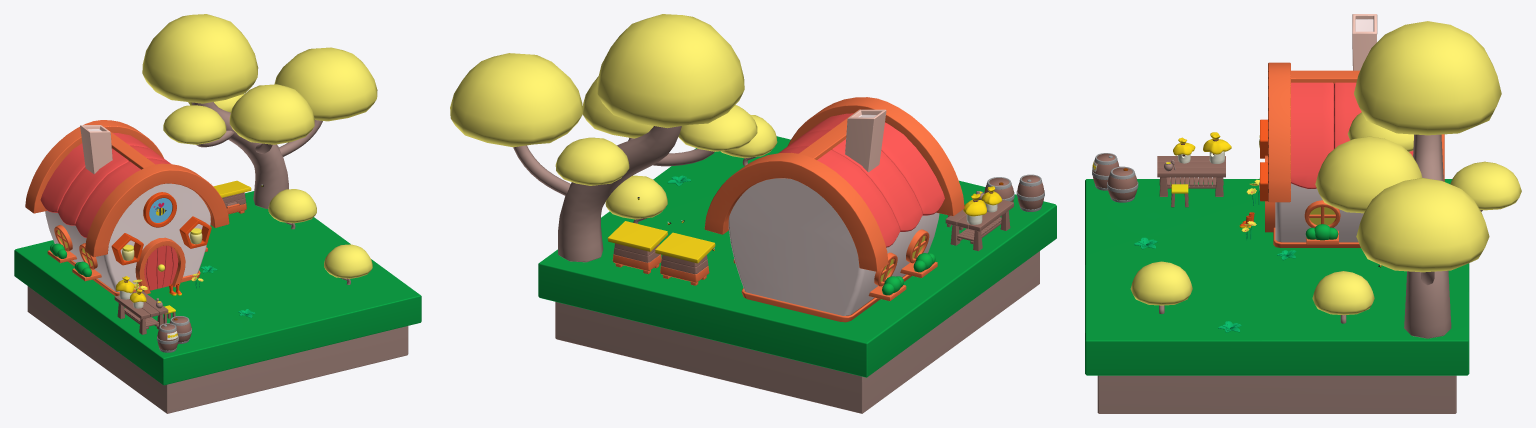
File: Farm_Island_10.glb
3 renders of one model, left to right at view 1: azimuth 30°, elevation 25°; view 2: azimuth 150°, elevation 25°; view 3: azimuth 270°, elevation 25°, orthographic. The views are drawn at different scales.
Parts seen in each view (by area): view 1: Farm_10_Base_1, Farm_10_Tree_1, Farm_10_House_1, Farm_10_Bush_1, Farm_10_Bush_2, Farm_10_Table_1, Farm_10_Picture_Bee_1, Farm_10_Bee_Hive_2, Farm_10_Barrel_Honey_1, Farm_10_Shelf_1, Farm_10_Shelf_2, Farm_10_Barrel_1; view 2: Farm_10_Base_1, Farm_10_House_1, Farm_10_Tree_1, Farm_10_Bee_Hive_1, Farm_10_Bee_Hive_2, Farm_10_Bush_1, Farm_10_Table_1, Farm_10_Bush_2, Farm_10_Barrel_Honey_1; view 3: Farm_10_Base_1, Farm_10_Tree_1, Farm_10_House_1, Farm_10_Bush_1, Farm_10_Bush_2, Farm_10_Table_1, Farm_10_Barrel_1, Farm_10_Barrel_Honey_1, Farm_10_Beehouse_1.
Part boxes in pixels (box(x1,y1,x2,y2)): Farm_10_Base_1: box(14, 191, 421, 413); Farm_10_Tree_1: box(142, 14, 377, 208); Farm_10_House_1: box(25, 120, 229, 295); Farm_10_Bush_1: box(268, 189, 316, 229); Farm_10_Bush_2: box(324, 244, 372, 284); Farm_10_Table_1: box(114, 291, 168, 334); Farm_10_Picture_Bee_1: box(143, 192, 176, 227); Farm_10_Bee_Hive_2: box(213, 180, 251, 214); Farm_10_Barrel_Honey_1: box(157, 323, 178, 352); Farm_10_Shelf_1: box(111, 233, 143, 265); Farm_10_Shelf_2: box(179, 216, 211, 248); Farm_10_Barrel_1: box(170, 316, 191, 343); Farm_10_Base_1: box(538, 136, 1056, 413); Farm_10_House_1: box(704, 97, 964, 322); Farm_10_Tree_1: box(450, 14, 757, 262); Farm_10_Bee_Hive_1: box(655, 232, 715, 285); Farm_10_Bee_Hive_2: box(607, 221, 667, 274); Farm_10_Bush_1: box(605, 175, 667, 223); Farm_10_Table_1: box(945, 199, 1013, 251); Farm_10_Bush_2: box(721, 115, 777, 165); Farm_10_Barrel_Honey_1: box(1016, 174, 1044, 211); Farm_10_Base_1: box(1085, 179, 1469, 413); Farm_10_Tree_1: box(1315, 21, 1521, 338); Farm_10_House_1: box(1265, 14, 1444, 247); Farm_10_Bush_1: box(1312, 271, 1374, 323); Farm_10_Bush_2: box(1130, 261, 1192, 314); Farm_10_Table_1: box(1157, 156, 1225, 196); Farm_10_Barrel_1: box(1107, 166, 1138, 202); Farm_10_Barrel_Honey_1: box(1092, 153, 1119, 190); Farm_10_Beehouse_1: box(1203, 132, 1231, 163).
Size of the model in its own units: 14.63 by 10.81 by 12.73.
Materials: 31 (31 with a texture image).
